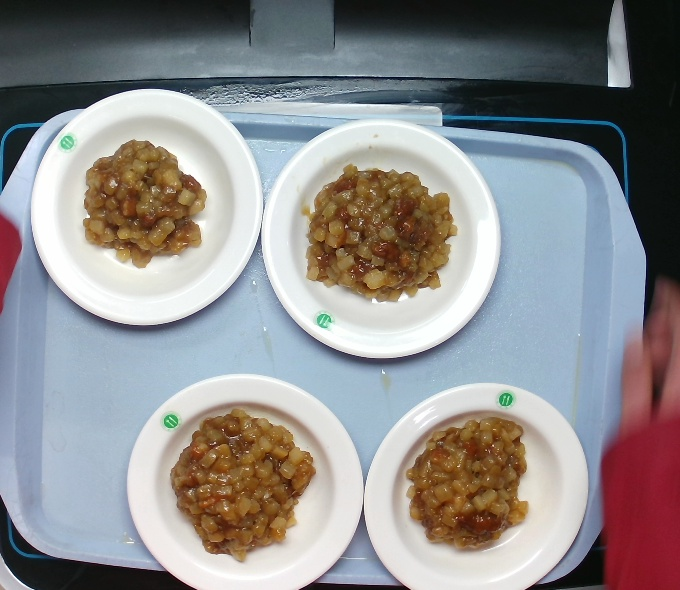wcq-RouYuan: (290, 151, 470, 311), (170, 401, 318, 559), (396, 399, 538, 558), (67, 133, 227, 266)
